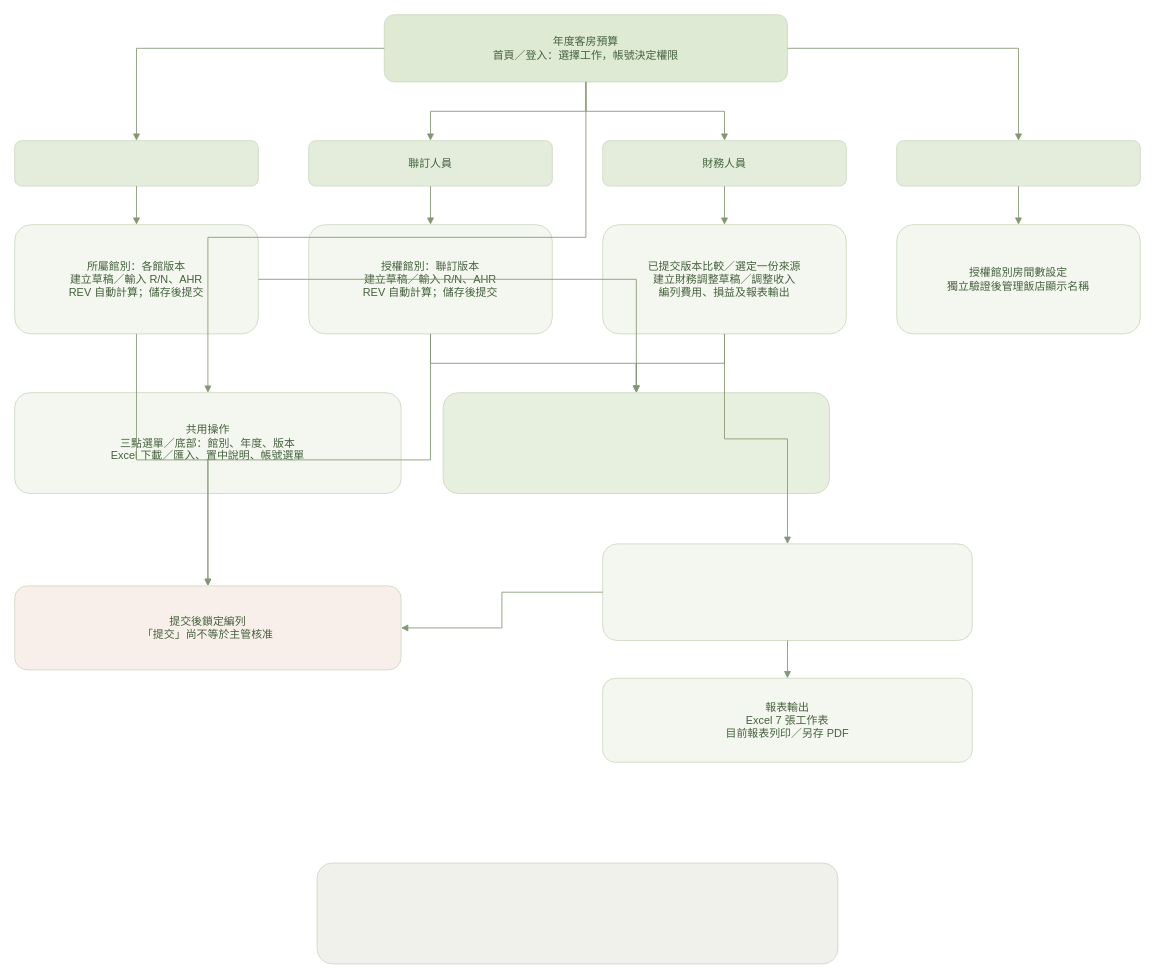
Image size: 1155x979. Some labels were removed from this diagram. Each missing label, with the centre of its shape:
"各館人員" belongs at point 136,163.
"年度預算比較（不含實績） 全年及 1–12 月：可售、R/N、REV、OCC 去年／今年／增減；同館與同編列來源 缺資料為 —，住房率差異用百分點" belongs at point 636,443.
"後續規劃（尚未開放） 主管核定／退回／核准權限 去年實績、每月實績匯入及預算對實績" belongs at point 577,913.
"財務報表／損益編列 客房部 206 科目、客房收入、通路 收入與損益調整差異、人事／成本／費用" belongs at point 787,591.
"飯店管理員（正式）" belongs at point 1018,163.
